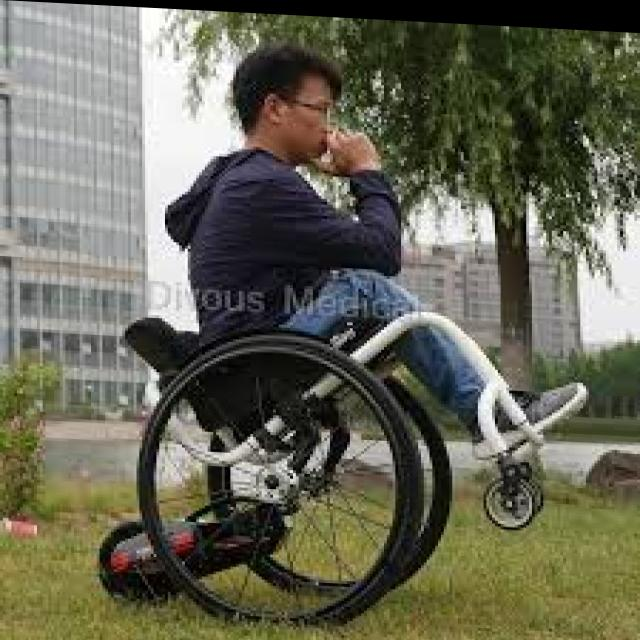wheelchair: (106, 35, 590, 630)
